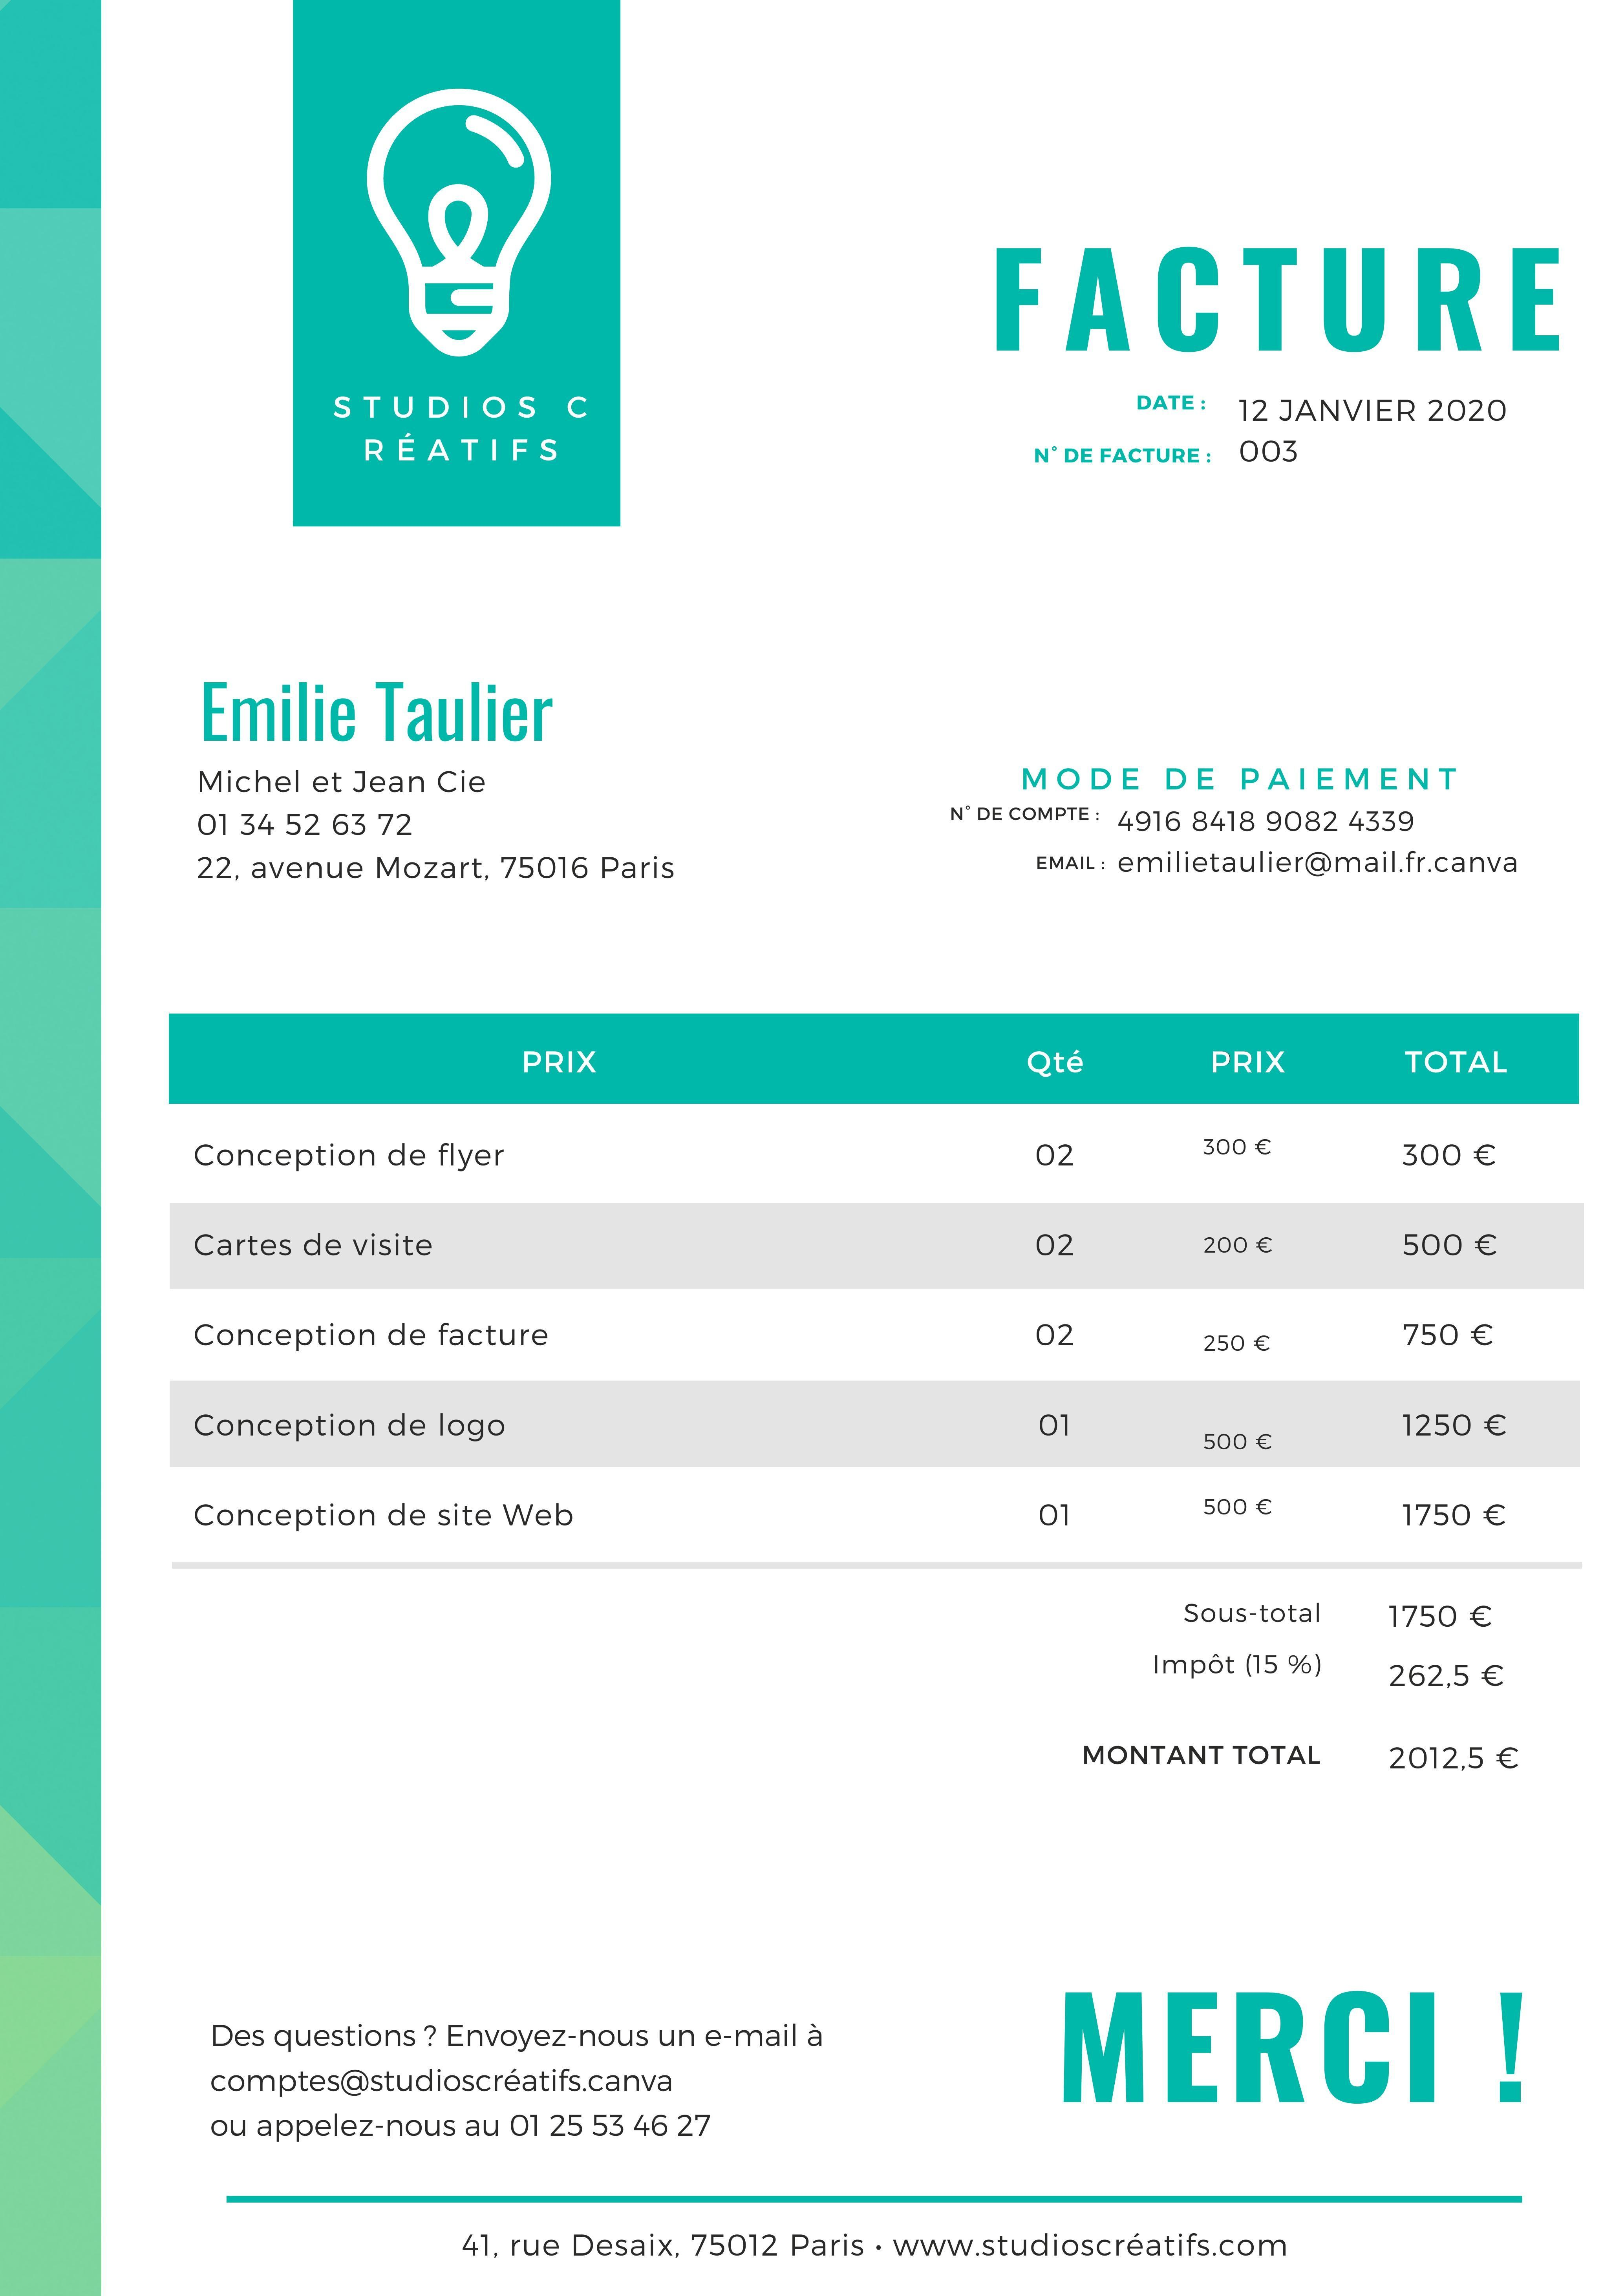ROI: (163, 1000, 1581, 1566), (168, 655, 713, 911), (921, 740, 1545, 915), (1070, 1582, 1531, 1816), (995, 369, 1542, 491), (318, 374, 593, 493)
